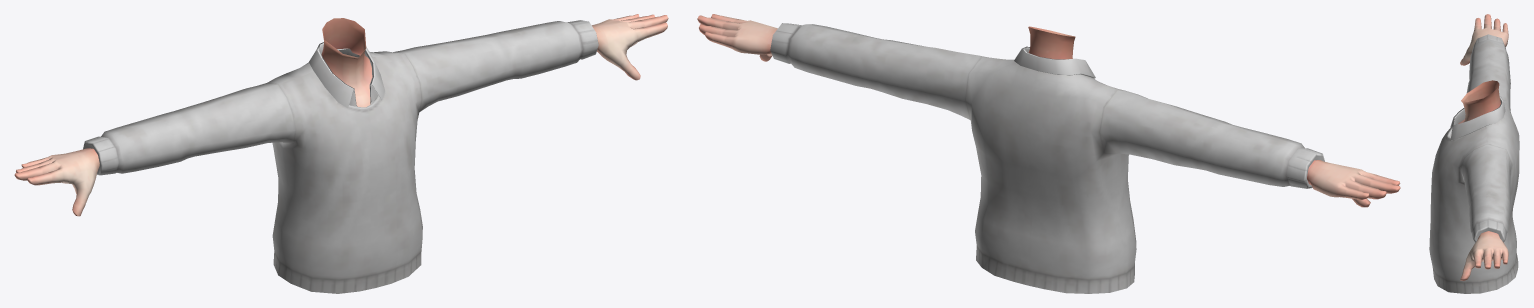
Rendered from tr0840_00_upb02.gltf.
The picture shows the model from 3 angles, left to right: view 1: azimuth 30°, elevation 25°; view 2: azimuth 150°, elevation 25°; view 3: azimuth 270°, elevation 25°; orthographic projection. The views are drawn at different scales.
Parts seen in each view (by area): view 1: upb02_upperbody_mesh_shape:upperbody02, upb02_upperbodyskin_mesh_shape:upperbody02_skin; view 2: upb02_upperbody_mesh_shape:upperbody02, upb02_upperbodyskin_mesh_shape:upperbody02_skin; view 3: upb02_upperbody_mesh_shape:upperbody02, upb02_upperbodyskin_mesh_shape:upperbody02_skin.
Part boxes in pixels (box(x1,y1,x2,y2)): upb02_upperbody_mesh_shape:upperbody02: box(83, 20, 598, 293); upb02_upperbodyskin_mesh_shape:upperbody02_skin: box(14, 14, 668, 216); upb02_upperbody_mesh_shape:upperbody02: box(770, 23, 1324, 293); upb02_upperbodyskin_mesh_shape:upperbody02_skin: box(697, 14, 1400, 207); upb02_upperbody_mesh_shape:upperbody02: box(1429, 34, 1519, 293); upb02_upperbodyskin_mesh_shape:upperbody02_skin: box(1451, 14, 1508, 280).
Size of what is drawn, in the model's own units: 1.63 by 0.5716 by 0.2466.
2 materials, 2 textured.
